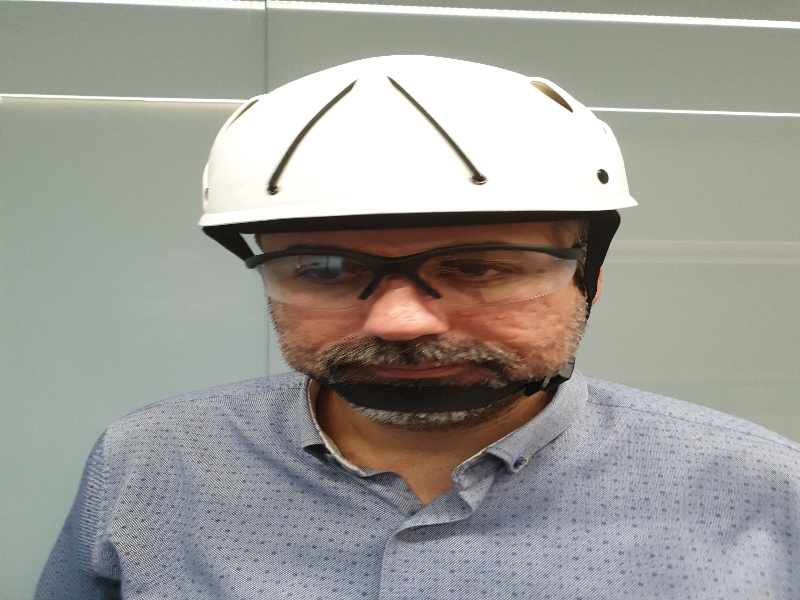Baret: (203, 55, 637, 220)
Gozluk: (240, 242, 583, 313)
